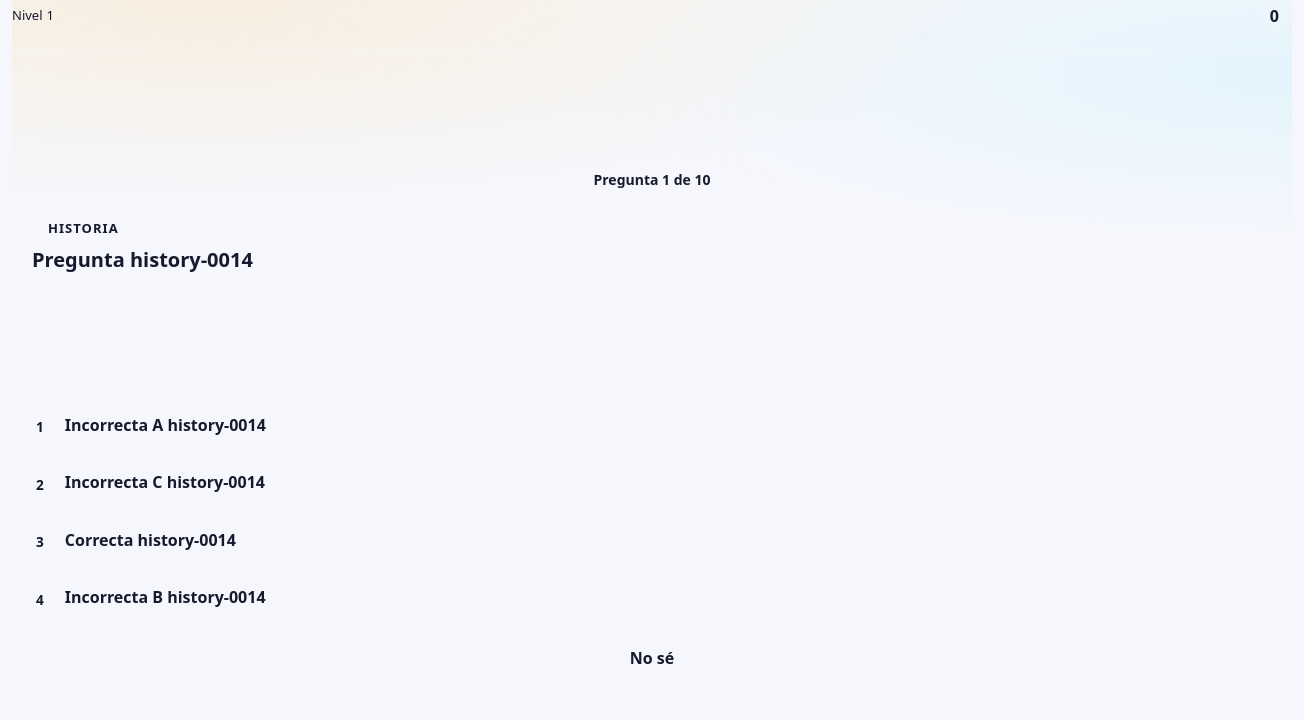
Test: a time-out keeps the points already earned and counts as a miss for the level
Click the button "3 Correcta history-0014": (64, 540) left=12, top=518, right=1292, bottom=566
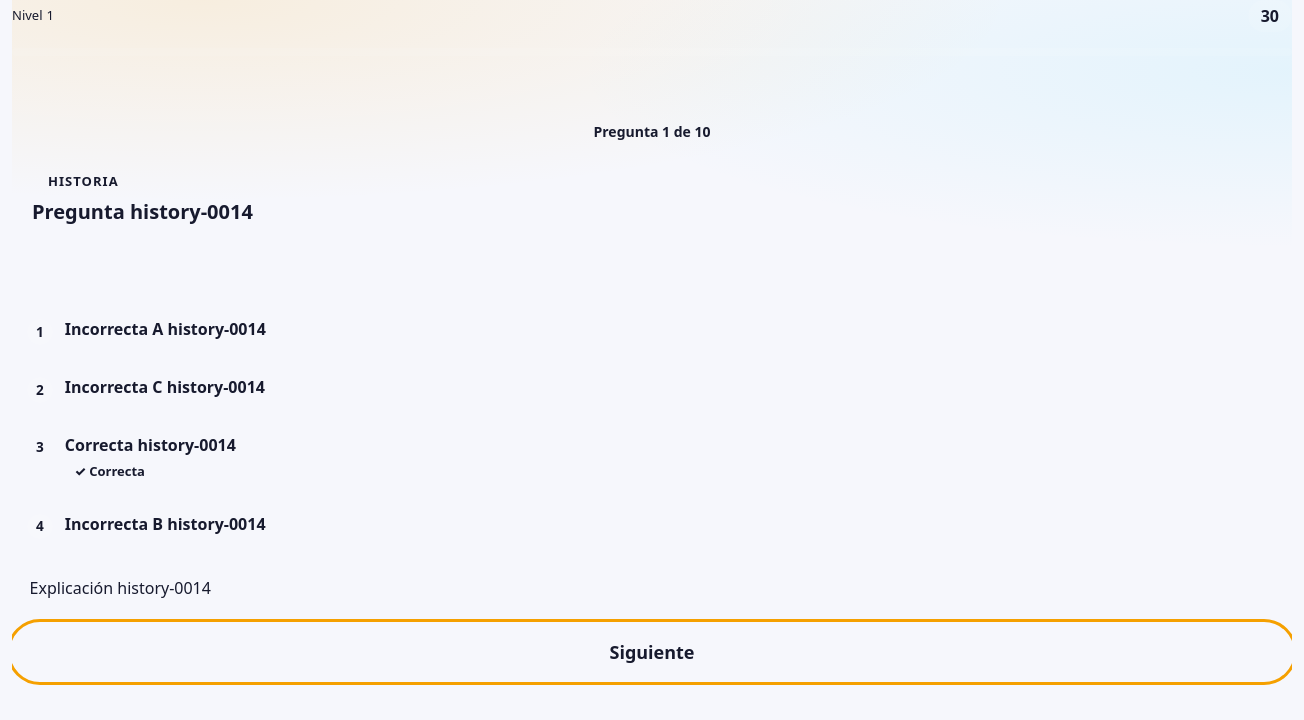
Press Enter
Wait 20000 ms
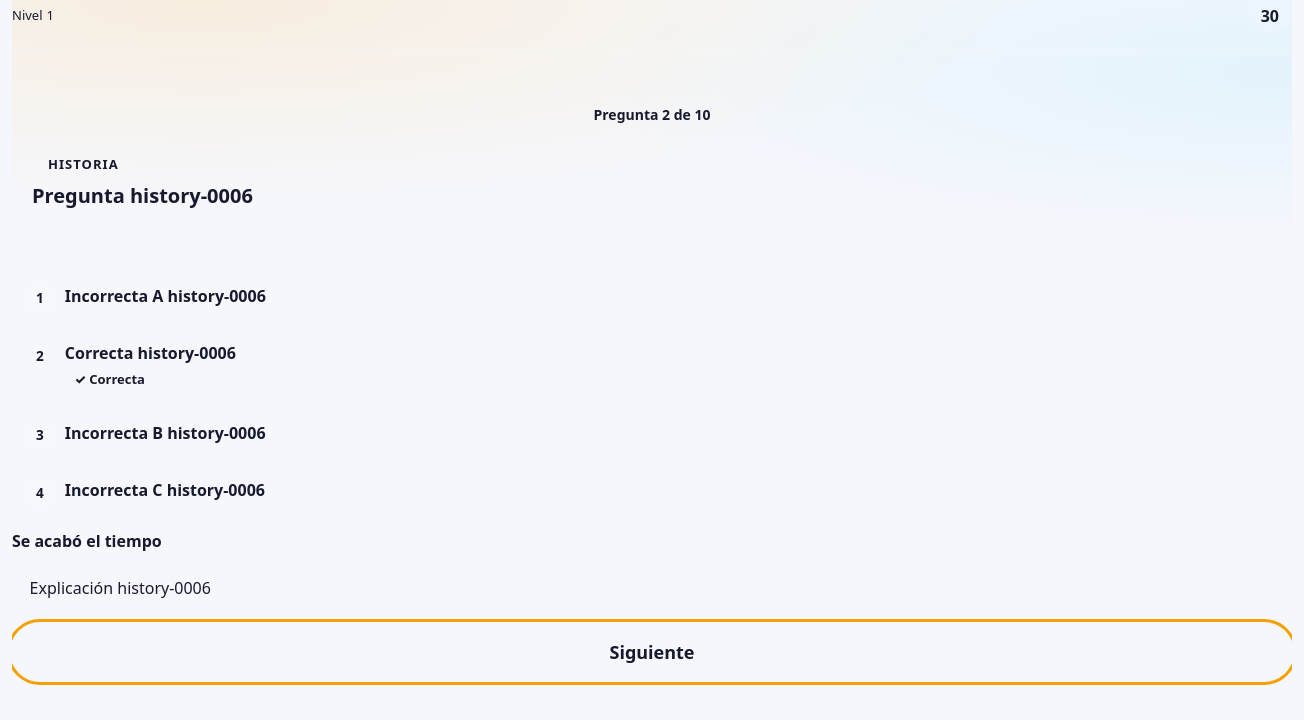
Now the text "Se acabó el tiempo" is shown, box left=12, top=530, right=162, bottom=552
Now the text "Pregunta 2 de 10" is shown, box left=594, top=105, right=710, bottom=124
